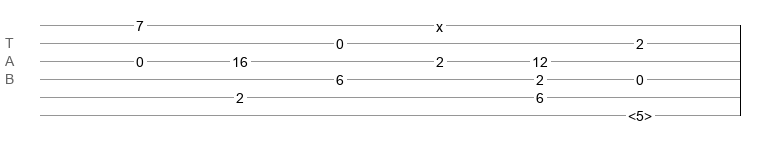0: (136, 54, 144, 64), (336, 36, 344, 46), (636, 72, 644, 82)
12: (532, 54, 548, 64)
16: (232, 54, 248, 64)
2: (236, 90, 244, 100), (436, 54, 444, 64), (536, 72, 544, 82), (636, 36, 644, 46)
6: (336, 72, 344, 82), (536, 90, 544, 100)
7: (136, 18, 144, 28)
harmonic: (628, 108, 652, 118)
x: (436, 19, 443, 27)
